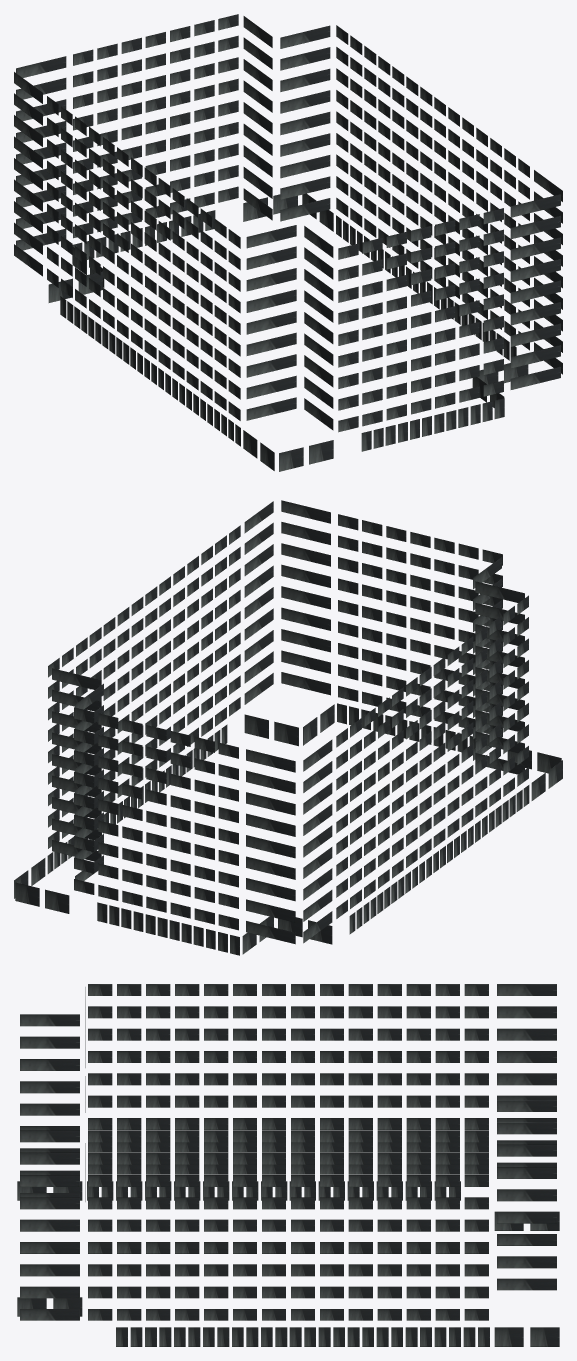
File: TRANS_Building_10stores_House.obj
The picture shows the model from 3 angles, top to bottom: view 1: azimuth 30°, elevation 25°; view 2: azimuth 150°, elevation 25°; view 3: azimuth 270°, elevation 25°; orthographic projection. The views are drawn at different scales.
Parts seen in each view (by area): view 1: TRANS_Building_10stores_House; view 2: TRANS_Building_10stores_House; view 3: TRANS_Building_10stores_House.
Part boxes in pixels (x1,y1,x2,y2): TRANS_Building_10stores_House: (14,14,562,471); TRANS_Building_10stores_House: (14,500,562,955); TRANS_Building_10stores_House: (17,984,559,1346).
Size of the model in its own units: 15.69 by 10.82 by 24.88.
